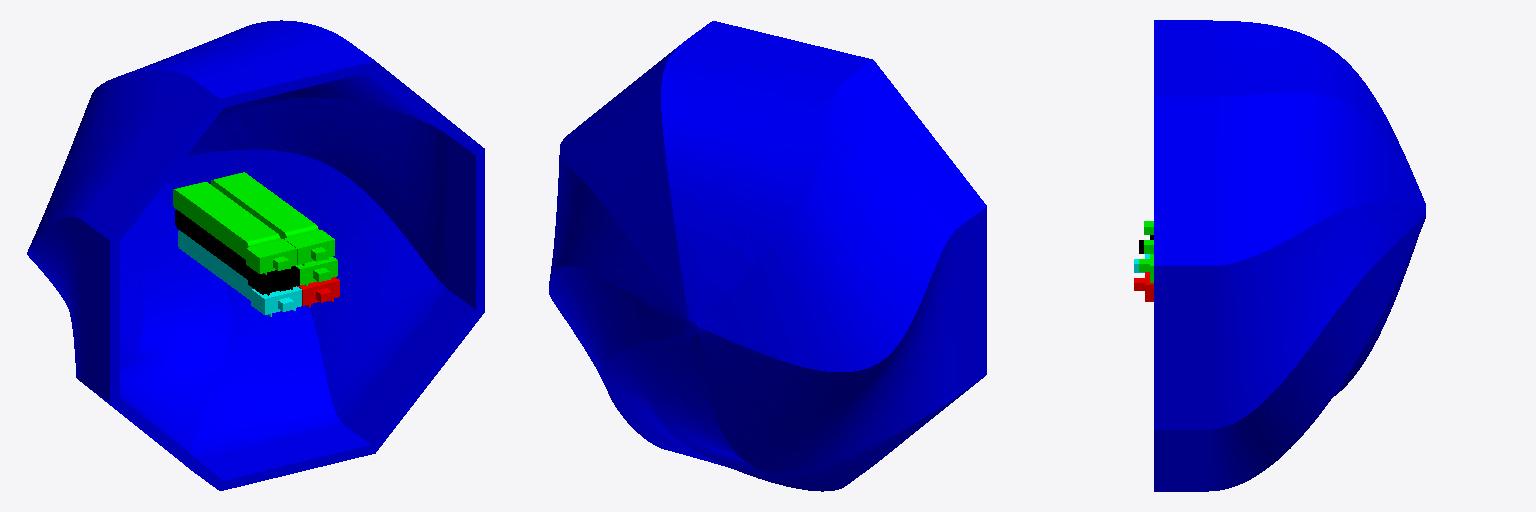
URDF robot description (hellorock_elec):
<?xml version="1.0" ?>
<robot name="hellorock_elec">
  <link name="shell1_1">
    <visual name="shell1_1_visual">
      <origin xyz="0 0 0" rpy="0 0 0"/>
      <geometry>
        <mesh filename="meshes/shell1_1.stl"/>
      </geometry>
      <material name="shell1_1-material">
        <color rgba="1 1 1 0.25"/>
      </material>
    </visual>
    <collision name="shell1_1_collision">
      <origin xyz="0 0 0" rpy="0 0 0"/>
      <geometry>
        <mesh filename="meshes/shell1_1.stl"/>
      </geometry>
    </collision>
    <inertial>
      <mass value="0.10437491"/>
      <inertia ixx="0.00018051825" iyy="0.00026757645" izz="0.00018147816" ixy="6.9207484e-06" ixz="-9.9118549e-07" iyz="4.9776314e-06"/>
      <origin xyz="0 0 0" rpy="0 0 0"/>
    </inertial>
  </link>
  <link name="pendulum_1">
    <visual name="pendulum_1_visual">
      <origin xyz="0 0 0" rpy="0 0 0"/>
      <geometry>
        <mesh filename="meshes/pendulum_1.stl"/>
      </geometry>
      <material name="pendulum_1-material">
        <color rgba="0 1 0 1"/>
      </material>
    </visual>
    <!-- <collision name="pendulum_1_collision">
      <origin xyz="0 0 0" rpy="0 0 0"/>
      <geometry>
        <mesh filename="meshes/pendulum_1.stl"/>
      </geometry>
    </collision> -->
    <inertial>
      <mass value="0.0071673613"/>
      <inertia ixx="1.7166551e-06" iyy="2.0945342e-06" izz="3.0079635e-06" ixy="9.7125441e-13" ixz="3.1462099e-07" iyz="1.152783e-12"/>
      <origin xyz="-0.037231809 3.3807232e-08 0.011111379" rpy="0 0 0"/>
    </inertial>
  </link>
  <link name="shell2_2">
    <visual name="shell2_2_visual">
      <origin xyz="0 0 0" rpy="0 0 0"/>
      <geometry>
        <mesh filename="meshes/shell2_2.stl"/>
      </geometry>
      <material name="shell2_2-material">
        <color rgba="0 0 1 0.25"/>
      </material>
    </visual>
    <collision name="shell2_2_collision">
      <origin xyz="0 0 0" rpy="0 0 0"/>
      <geometry>
        <mesh filename="meshes/shell2_2.stl"/>
      </geometry>
    </collision>
    <inertial>
      <mass value="0.10207892"/>
      <inertia ixx="0.00017366778" iyy="0.00017452887" izz="0.0002660292" ixy="-9.791365e-07" ixz="-5.7734117e-06" iyz="-4.5689111e-06"/>
      <origin xyz="0.0021558313 0.002175716 0.019769197" rpy="0 0 0"/>
    </inertial>
  </link>
  <link name="IQ2306_Simplified_1">
    <visual name="IQ2306_Simplified_1_visual">
      <origin xyz="0 0 0" rpy="0 0 0"/>
      <geometry>
        <mesh filename="meshes/IQ2306_Simplified_1.stl"/>
      </geometry>
      <material name="IQ2306_Simplified_1-material">
        <color rgba="1 0 0 1"/>
      </material>
    </visual>
    <!-- <collision name="IQ2306_Simplified_1_collision">
      <origin xyz="0 0 0" rpy="0 0 0"/>
      <geometry>
        <mesh filename="meshes/IQ2306_Simplified_1.stl"/>
      </geometry>
    </collision> -->
    <inertial>
      <mass value="0.0374"/>
      <inertia ixx="3.12877e-06" iyy="3.1731684e-06" izz="3.6323314e-06" ixy="-3.6536544e-09" ixz="1.7745299e-08" iyz="-2.2598499e-12"/>
      <origin xyz="8.2184387e-05 -9.4618498e-09 -0.011058897" rpy="0 0 0"/>
    </inertial>
  </link>
  <link name="tattu_220mah_battery_2">
    <visual name="tattu_220mah_battery_2_visual">
      <origin xyz="0 0 0" rpy="0 0 0"/>
      <geometry>
        <mesh filename="meshes/tattu_220mah_battery_2.stl"/>
      </geometry>
      <material name="tattu_220mah_battery_2-material">
        <color rgba="0 0 0 1"/>
      </material>
    </visual>
    <!-- <collision name="tattu_220mah_battery_2_collision">
      <origin xyz="0 0 0" rpy="0 0 0"/>
      <geometry>
        <mesh filename="meshes/tattu_220mah_battery_2.stl"/>
      </geometry>
    </collision> -->
    <inertial>
      <mass value="0.006"/>
      <inertia ixx="1.2794722e-06" iyy="1.3180285e-06" izz="7.0975361e-08" ixy="0" ixz="0" iyz="1.9064659e-08"/>
      <origin xyz="-0.006 0.00069753431 -0.024411653" rpy="0 0 0"/>
    </inertial>
  </link>
  <link name="leadestimation_1">
    <visual name="leadestimation_1_visual">
      <origin xyz="0 0 0" rpy="0 0 0"/>
      <geometry>
        <mesh filename="meshes/leadestimation_1.stl"/>
      </geometry>
      <material name="leadestimation_1-material">
        <color rgba="0 0 1 1"/>
      </material>
    </visual>
    <!-- <collision name="leadestimation_1_collision">
      <origin xyz="0 0 0" rpy="0 0 0"/>
      <geometry>
        <mesh filename="meshes/leadestimation_1.stl"/>
      </geometry>
    </collision> -->
    <inertial>
      <mass value="0.13856077"/>
      <inertia ixx="2.5003304e-05" iyy="7.9678038e-06" izz="2.1175891e-05" ixy="0" ixz="0" iyz="0"/>
      <origin xyz="2.0816682e-17 -5.4173856e-18 -0.0113" rpy="0 0 0"/>
    </inertial>
  </link>
  <link name="tattu_220mah_battery_1">
    <visual name="tattu_220mah_battery_1_visual">
      <origin xyz="0 0 0" rpy="0 0 0"/>
      <geometry>
        <mesh filename="meshes/tattu_220mah_battery_1.stl"/>
      </geometry>
      <material name="tattu_220mah_battery_1-material">
        <color rgba="0 1 0 1"/>
      </material>
    </visual>
    <!-- <collision name="tattu_220mah_battery_1_collision">
      <origin xyz="0 0 0" rpy="0 0 0"/>
      <geometry>
        <mesh filename="meshes/tattu_220mah_battery_1.stl"/>
      </geometry>
    </collision> -->
    <inertial>
      <mass value="0.006"/>
      <inertia ixx="1.2794722e-06" iyy="7.0975361e-08" izz="1.3180285e-06" ixy="0" ixz="0" iyz="-1.9064659e-08"/>
      <origin xyz="7.7360759e-19 -0.016911653 -0.0026975343" rpy="0 0 0"/>
    </inertial>
  </link>
  <link name="tattu_220mah_battery_4">
    <visual name="tattu_220mah_battery_4_visual">
      <origin xyz="0 0 0" rpy="0 0 0"/>
      <geometry>
        <mesh filename="meshes/tattu_220mah_battery_4.stl"/>
      </geometry>
      <material name="tattu_220mah_battery_4-material">
        <color rgba="0 1 1 1"/>
      </material>
    </visual>
    <!-- <collision name="tattu_220mah_battery_4_collision">
      <origin xyz="0 0 0" rpy="0 0 0"/>
      <geometry>
        <mesh filename="meshes/tattu_220mah_battery_4.stl"/>
      </geometry>
    </collision> -->
    <inertial>
      <mass value="0.006"/>
      <inertia ixx="1.2794722e-06" iyy="7.0975361e-08" izz="1.3180285e-06" ixy="0" ixz="0" iyz="-1.9064659e-08"/>
      <origin xyz="3.3992672e-19 0.015511653 -0.0030024657" rpy="0 0 0"/>
    </inertial>
  </link>
  <link name="tattu_220mah_battery_5">
    <visual name="tattu_220mah_battery_5_visual">
      <origin xyz="0 0 0" rpy="0 0 0"/>
      <geometry>
        <mesh filename="meshes/tattu_220mah_battery_5.stl"/>
      </geometry>
      <material name="tattu_220mah_battery_5-material">
        <color rgba="0 1 0 1"/>
      </material>
    </visual>
    <!-- <collision name="tattu_220mah_battery_5_collision">
      <origin xyz="0 0 0" rpy="0 0 0"/>
      <geometry>
        <mesh filename="meshes/tattu_220mah_battery_5.stl"/>
      </geometry>
    </collision> -->
    <inertial>
      <mass value="0.006"/>
      <inertia ixx="1.3180285e-06" iyy="7.0975361e-08" izz="1.2794722e-06" ixy="-1.9064659e-08" ixz="0" iyz="0"/>
      <origin xyz="-0.00014801188 -0.004151722 -0.0051" rpy="0 0 0"/>
    </inertial>
  </link>
  <link name="pendulumcap_1">
    <visual name="pendulumcap_1_visual">
      <origin xyz="0 0 0" rpy="0 0 0"/>
      <geometry>
        <mesh filename="meshes/pendulumcap_1.stl"/>
      </geometry>
      <material name="pendulumcap_1-material">
        <color rgba="0 0 1 1"/>
      </material>
    </visual>
    <!-- <collision name="pendulumcap_1_collision">
      <origin xyz="0 0 0" rpy="0 0 0"/>
      <geometry>
        <mesh filename="meshes/pendulumcap_1.stl"/>
      </geometry>
    </collision> -->
    <inertial>
      <mass value="0.0015467673"/>
      <inertia ixx="2.4712971e-07" iyy="3.6445559e-08" izz="2.8142381e-07" ixy="0" ixz="-5.8823535e-11" iyz="0"/>
      <origin xyz="0.00017410324 4.7711544e-18 -0.00032712916" rpy="0 0 0"/>
    </inertial>
  </link>
  <link name="tattu_220mah_battery_6">
    <visual name="tattu_220mah_battery_6_visual">
      <origin xyz="0 0 0" rpy="0 0 0"/>
      <geometry>
        <mesh filename="meshes/tattu_220mah_battery_6.stl"/>
      </geometry>
      <material name="tattu_220mah_battery_6-material">
        <color rgba="1 0 0 1"/>
      </material>
    </visual>
    <!-- <collision name="tattu_220mah_battery_6_collision">
      <origin xyz="0 0 0" rpy="0 0 0"/>
      <geometry>
        <mesh filename="meshes/tattu_220mah_battery_6.stl"/>
      </geometry>
    </collision> -->
    <inertial>
      <mass value="0.006"/>
      <inertia ixx="1.2794722e-06" iyy="7.0975361e-08" izz="1.3180285e-06" ixy="0" ixz="0" iyz="-1.9064659e-08"/>
      <origin xyz="3.3992672e-19 0.015511653 -0.0030024657" rpy="0 0 0"/>
    </inertial>
  </link>
  <link name="tattu_220mah_battery_3">
    <visual name="tattu_220mah_battery_3_visual">
      <origin xyz="0 0 0" rpy="0 0 0"/>
      <geometry>
        <mesh filename="meshes/tattu_220mah_battery_3.stl"/>
      </geometry>
      <material name="tattu_220mah_battery_3-material">
        <color rgba="0 1 0 1"/>
      </material>
    </visual>
    <!-- <collision name="tattu_220mah_battery_3_collision">
      <origin xyz="0 0 0" rpy="0 0 0"/>
      <geometry>
        <mesh filename="meshes/tattu_220mah_battery_3.stl"/>
      </geometry>
    </collision> -->
    <inertial>
      <mass value="0.006"/>
      <inertia ixx="1.2794722e-06" iyy="7.0975361e-08" izz="1.3180285e-06" ixy="0" ixz="0" iyz="-1.9064659e-08"/>
      <origin xyz="7.7360759e-19 0.016911653 0.0026975343" rpy="0 0 0"/>
    </inertial>
  </link>
  <joint name="Revolute_1" type="revolute">
    <origin xyz="-0.0024220932 0.021060383 -0.0022385223" rpy="-1.5707963 0 0"/>
    <parent link="shell1_1"/>
    <child link="pendulum_1"/>
    <axis xyz="0 0 -1"/>
    <limit effort="1" velocity="1" lower="-6.2831853" upper="6.2831853"/>
  </joint>
  <joint name="Fastened_1" type="fixed">
    <origin xyz="-0.0024220932 0.051060383 -0.0022385223" rpy="1.5707963 0 3.1415927"/>
    <parent link="shell1_1"/>
    <child link="shell2_2"/>
  </joint>
  <joint name="Fastened_4" type="fixed">
    <origin xyz="-0.0024220932 0.021060383 -0.0022385223" rpy="-1.5707963 0 0"/>
    <parent link="shell1_1"/>
    <child link="IQ2306_Simplified_1"/>
  </joint>
  <joint name="Fastened_10" type="fixed">
    <origin xyz="-0.0024220932 0.035060383 -0.0022385223" rpy="1.5707963 0 0"/>
    <parent link="shell1_1"/>
    <child link="tattu_220mah_battery_2"/>
  </joint>
  <joint name="Fastened_2" type="fixed">
    <origin xyz="-0.044734945 1.7210086e-18 0.0044" rpy="3.1415927 0 0"/>
    <parent link="pendulum_1"/>
    <child link="leadestimation_1"/>
  </joint>
  <joint name="Fastened_5" type="fixed">
    <origin xyz="-0.006 0.0037 -0.0089" rpy="1.5707963 0 0"/>
    <parent link="tattu_220mah_battery_2"/>
    <child link="tattu_220mah_battery_1"/>
  </joint>
  <joint name="Fastened_6" type="fixed">
    <origin xyz="-0.006 -0.002 -0.0075" rpy="-1.5707963 0 0"/>
    <parent link="tattu_220mah_battery_2"/>
    <child link="tattu_220mah_battery_4"/>
  </joint>
  <joint name="Fastened_9" type="fixed">
    <origin xyz="0.0011 0.00084554619 -0.028563375" rpy="-1.5707963 0 1.5707963"/>
    <parent link="tattu_220mah_battery_2"/>
    <child link="tattu_220mah_battery_5"/>
  </joint>
  <joint name="Fastened_3" type="fixed">
    <origin xyz="2.0816682e-17 -9.0799691e-18 -0.0226" rpy="0 0 0"/>
    <parent link="leadestimation_1"/>
    <child link="pendulumcap_1"/>
  </joint>
  <joint name="Fastened_7" type="fixed">
    <origin xyz="-0.0028455462 -0.021063375 -0.0051" rpy="-0 1.5707963 0"/>
    <parent link="tattu_220mah_battery_5"/>
    <child link="tattu_220mah_battery_6"/>
  </joint>
  <joint name="Fastened_8" type="fixed">
    <origin xyz="0.0028544538 -0.019663375 -0.0051" rpy="-0 1.5707963 0"/>
    <parent link="tattu_220mah_battery_5"/>
    <child link="tattu_220mah_battery_3"/>
  </joint>
</robot>

--- Render facts (derived) ---
Views: 3 orthographic renders of the robot side by side, from view 1: azimuth 30°, elevation 25°; view 2: azimuth 150°, elevation 25°; view 3: azimuth 270°, elevation 25°.
Model hellorock_elec with 12 links and 11 joints (1 revolute, 10 fixed), rooted at shell1_1, posed every joint at zero.
Links seen in each view (by area): view 1: shell2_2, tattu_220mah_battery_1, tattu_220mah_battery_3, tattu_220mah_battery_2, tattu_220mah_battery_4, tattu_220mah_battery_6, tattu_220mah_battery_5; view 2: shell2_2; view 3: shell2_2.
Link boxes in pixels (<box>): shell2_2: <box>27,20,484,490</box>; tattu_220mah_battery_1: <box>173,182,296,274</box>; tattu_220mah_battery_3: <box>211,172,334,265</box>; tattu_220mah_battery_2: <box>175,210,299,295</box>; tattu_220mah_battery_4: <box>178,230,301,316</box>; tattu_220mah_battery_6: <box>297,277,339,307</box>; tattu_220mah_battery_5: <box>296,257,337,285</box>; shell2_2: <box>549,21,986,491</box>; shell2_2: <box>1154,20,1425,491</box>.
Bounding box of the posed robot: 0.1211 × 0.0804 × 0.12 m (x, y, z).
7 mesh visuals loaded from 12 distinct referenced files (7 binary STL); not drawn: 5 (reference not matched to a file when rendering).